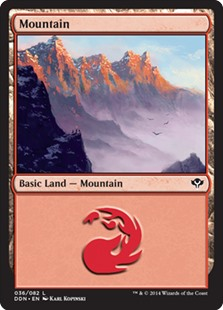artist: (47, 294, 88, 304)
image: (18, 35, 205, 173)
land_symbol: (78, 203, 147, 277)
name: (19, 17, 72, 31)
set: (188, 175, 206, 192)
type: (19, 176, 125, 191)
